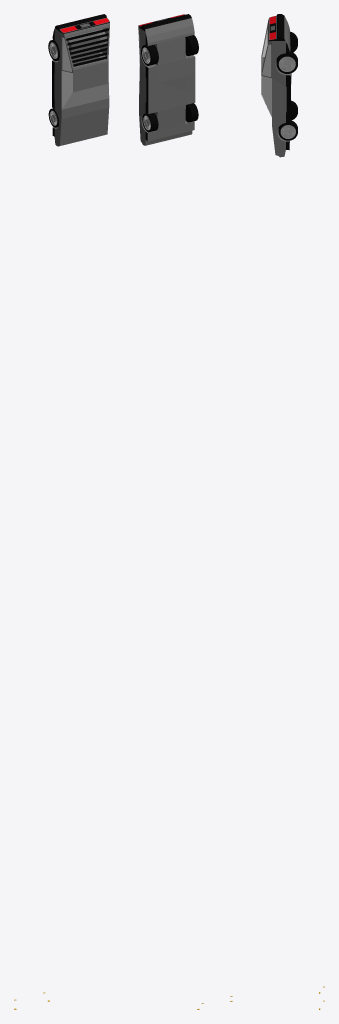
The model's file is delorean_dmc_12_animated.glb.
The picture shows the model from 3 angles, left to right: view 1: azimuth 30°, elevation 25°; view 2: azimuth 210°, elevation 25°; view 3: azimuth 270°, elevation 25°; orthographic projection.
Parts seen in each view (by area): view 1: DeLorean Body, front, door.001, door; view 2: DeLorean Body, DeLorean wheels.002, DeLorean wheels.001, door; view 3: DeLorean Body, door, DeLorean wheels.002, DeLorean wheels.001.
Part boxes in pixels (x1,y1,x2,y2): DeLorean Body: (52,14,109,146); front: (60,98,109,145); door.001: (54,70,84,109); door: (96,64,109,96); DeLorean Body: (138,14,195,145); DeLorean wheels.002: (141,35,198,65); DeLorean wheels.001: (142,103,198,132); door: (139,63,146,102); DeLorean Body: (261,14,291,157); door: (261,76,286,117); DeLorean wheels.002: (276,31,297,73); DeLorean wheels.001: (278,100,297,140).
Bounding box in the file's own units: 0.00762 × 0.1013 × 0.00586.
